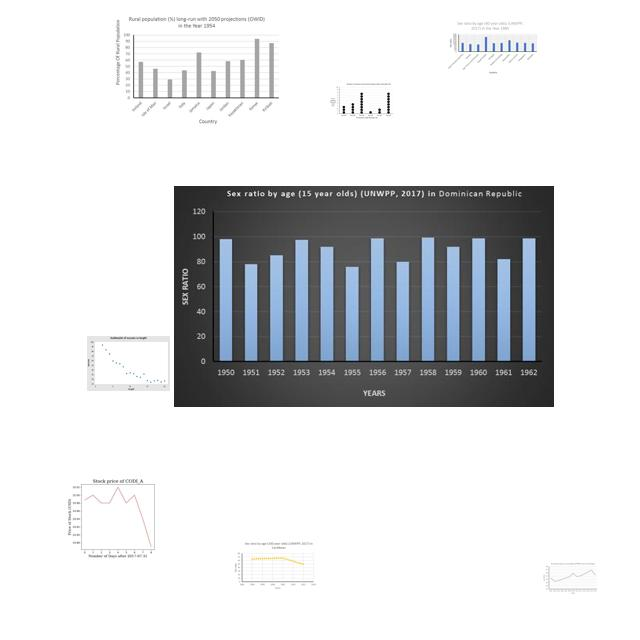Graph: (174, 186, 554, 407), (112, 14, 282, 127), (60, 474, 173, 559), (447, 20, 538, 75), (87, 336, 170, 391), (232, 541, 317, 591), (329, 83, 394, 120), (542, 562, 598, 595)
